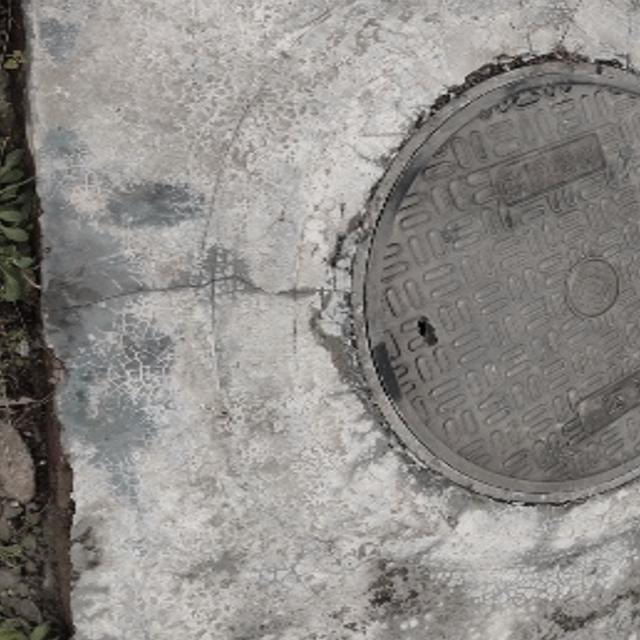good: (356, 66, 640, 504)
